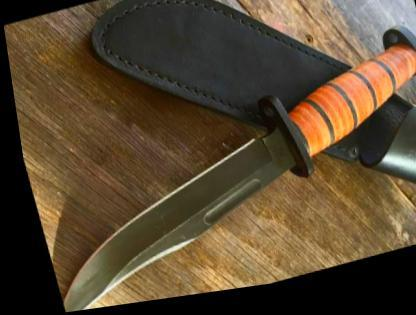knife: (24, 136, 302, 313)
